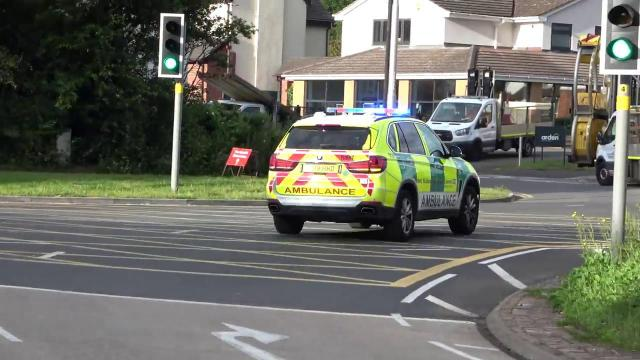police_car: (266, 106, 481, 242)
